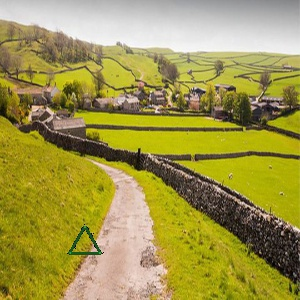triangle: (64, 224, 106, 260)
